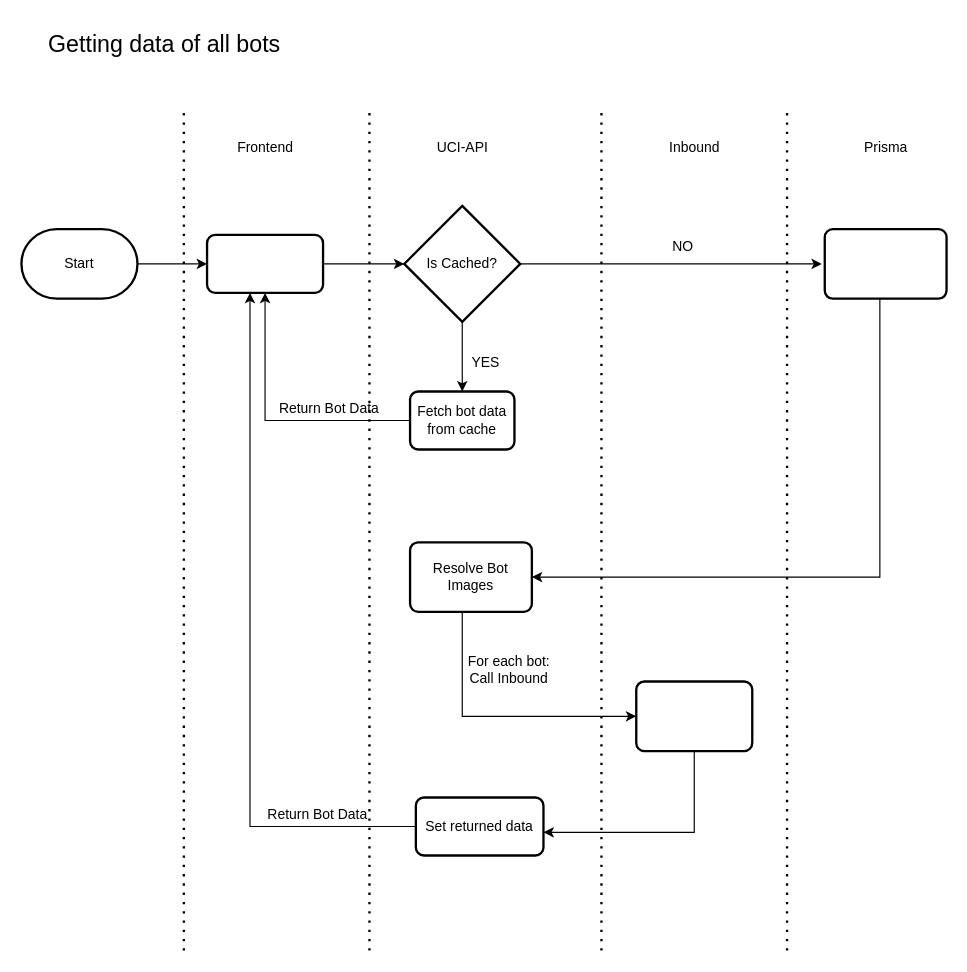
The diagram is 967 pixels wide and 972 high, and some of its shapes have lost their labels. The shapes that lost their labels are listed below. From the top down, each one's centre as x and y in pixels, then its label:
(x=264, y=263): Call allContextual
(x=885, y=263): Retrieve Bot Data
(x=694, y=716): Query Minio
